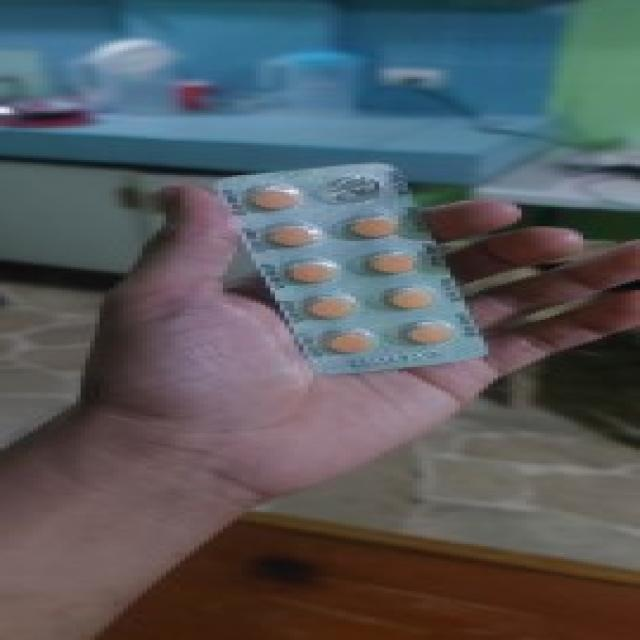Cacat: (208, 159, 498, 375)
Kemasan: (320, 170, 393, 208)
